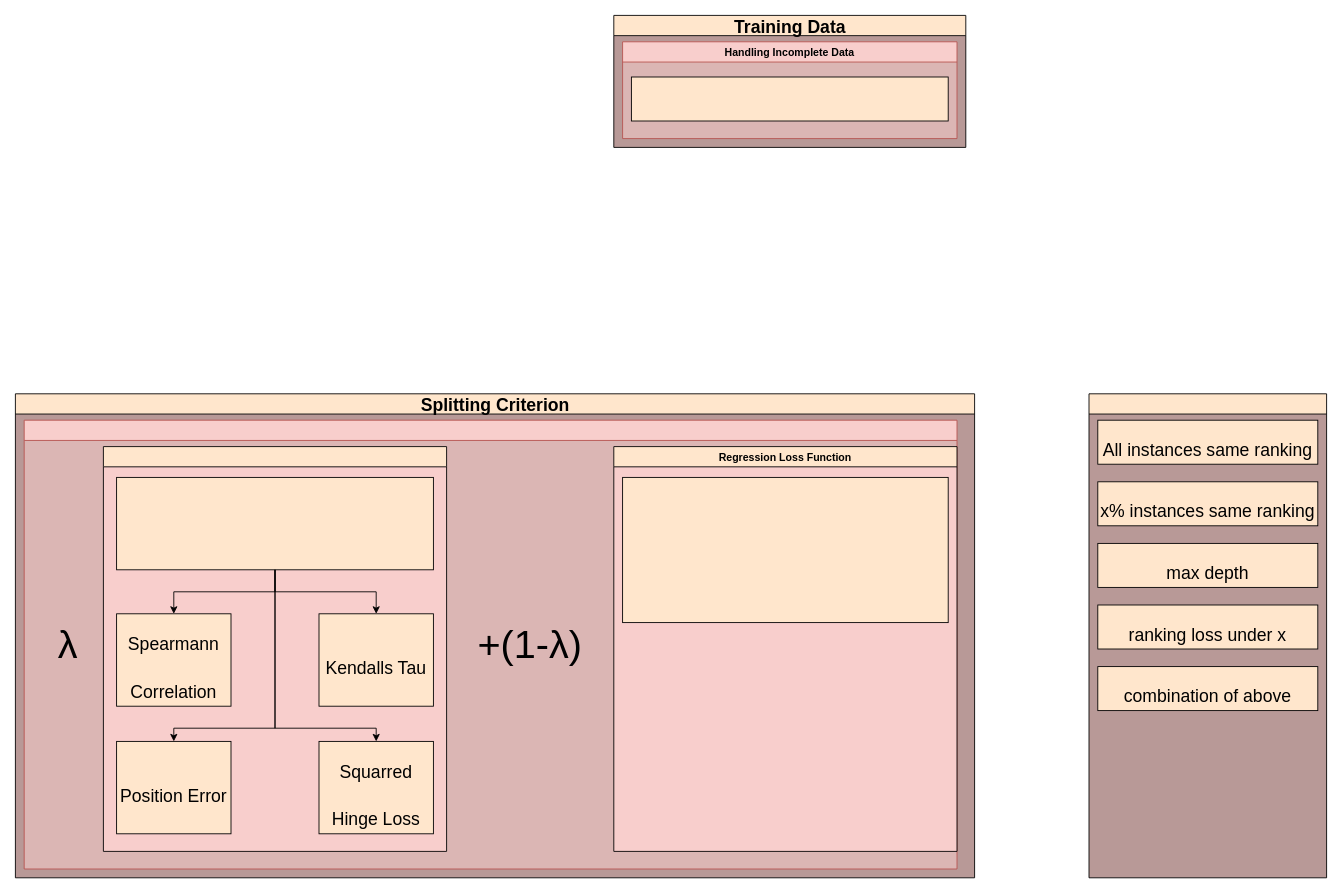
This 1342x893 diagram has some shape labels left out. The shapes that lost their labels are listed below. From the top down, each one's box as (x1, y1, x2, y2) in pixels, then its label:
(631, 76, 948, 121): Set to μ • Cutoff
(116, 477, 433, 570): Consensus Ranking
(622, 477, 948, 623): Mean Squarred Error - based Loss
(103, 446, 447, 851): Ranking Loss Funktion
(23, 419, 957, 869): Combined Ranking and Regression Loss
(1088, 393, 1327, 878): Stopping Criterion
